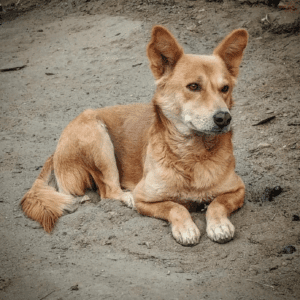Dog: (21, 24, 253, 249)
